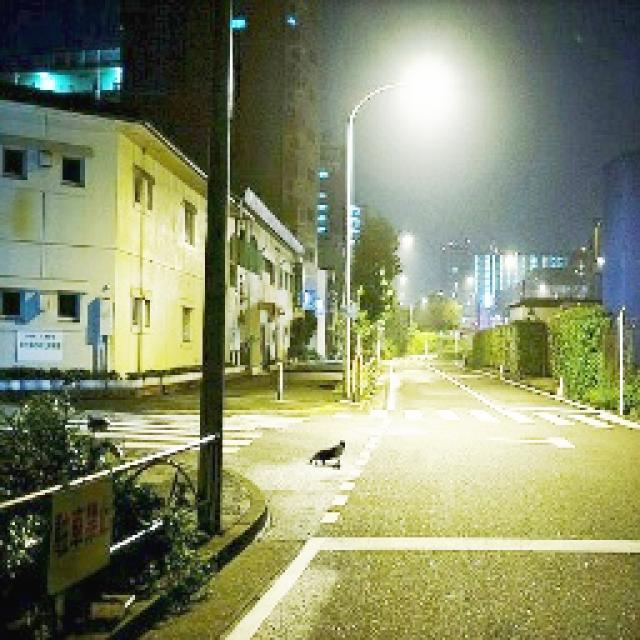cat: (304, 435, 350, 473)
